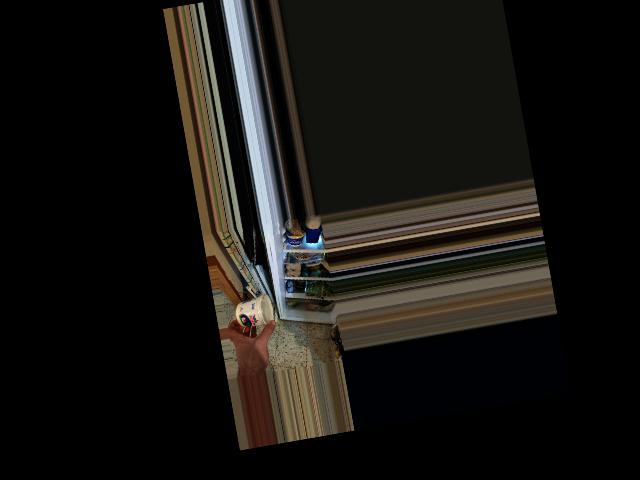cotage: (231, 293, 276, 331)
